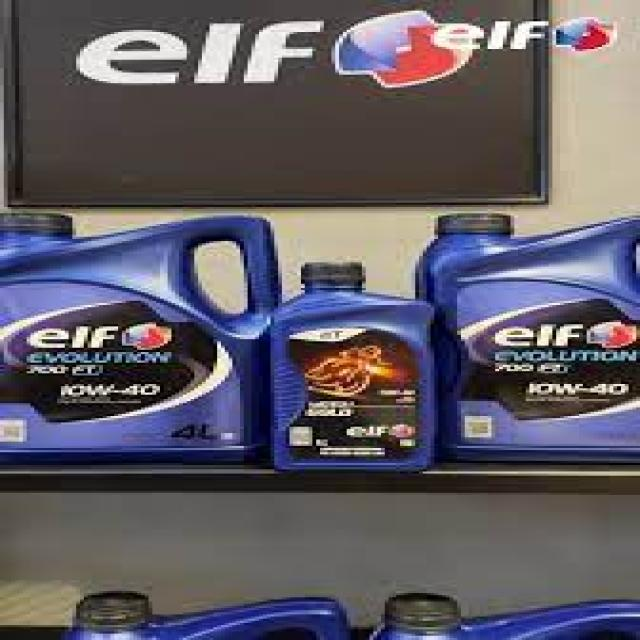motor_oil: (0, 210, 279, 459), (285, 260, 439, 470)
